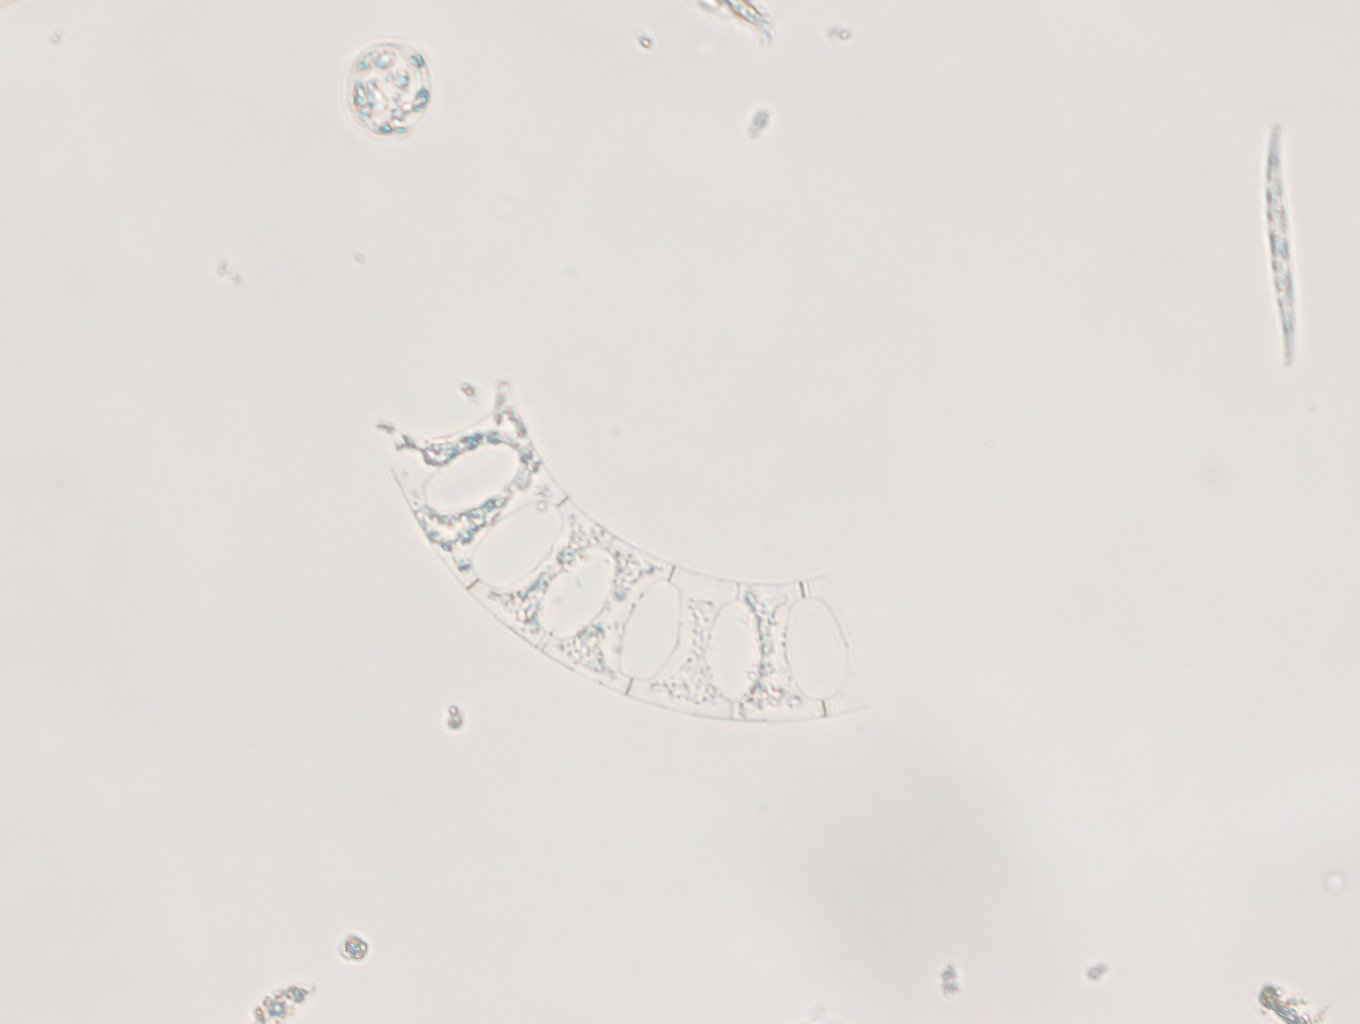eucampia: (369, 380, 878, 725)
pleurosigma pelagicum: (1264, 122, 1295, 368)
